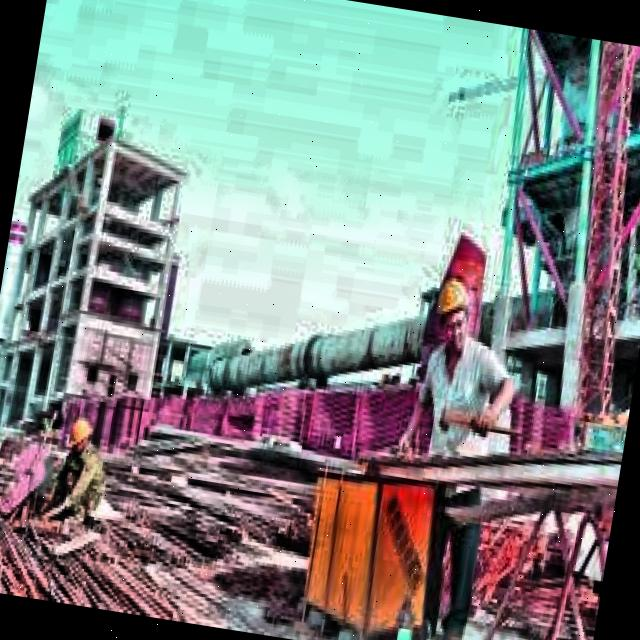helmet: (428, 270, 479, 353), (66, 413, 95, 459)
